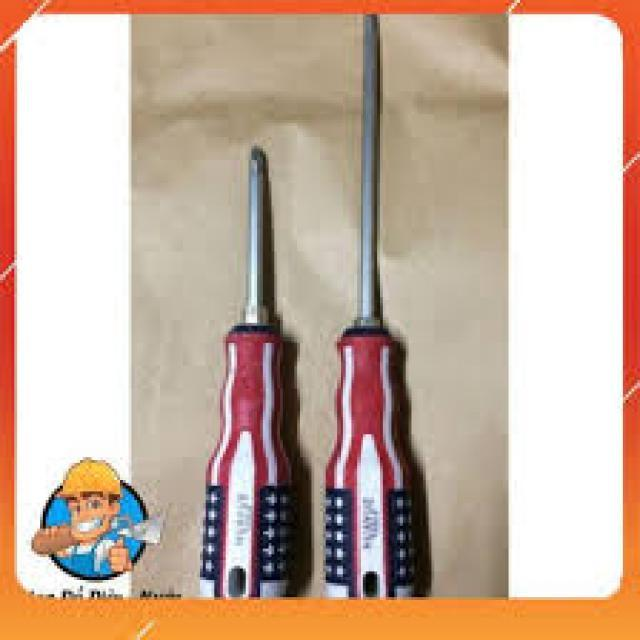screwdriver: (318, 14, 418, 600), (198, 144, 302, 599)
